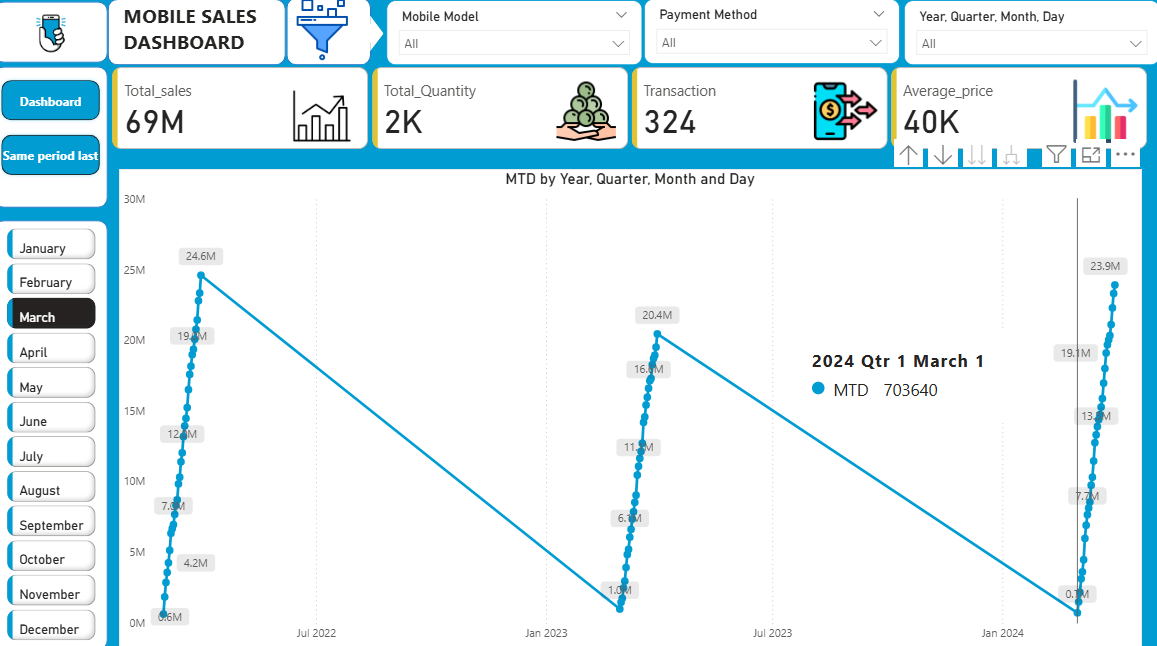

Layout of this report page (visuals, bound fields, positions):
{"tool":"powerbi","page":{"name":"MTD","canvas":[1280,720],"ordinal":1},"visuals":[{"type":"shape","box":[0,8.2,124.9,67.2],"z":0},{"type":"image","box":[23.3,11,78.2,64.5],"z":1000},{"type":"shape","box":[0,79.6,124.9,155.1],"z":2000},{"type":"cardVisual","fields":{"Data":["Sales_data.Total_sales","Sales_data.Total_Quantity","Sales_data.Transaction","Sales_data.Average_price"]},"box":[124.9,75.5,1147.2,100.2],"z":3000},{"type":"slicer","fields":{"Values":["Sales_data.Mobile Model"]},"box":[430.5,7.1,280.8,71.3],"z":4000},{"type":"slicer","fields":{"Values":["Custom_Calender.Date.Variation.Date Hierarchy.Year","Custom_Calender.Date.Variation.Date Hierarchy.Quarter","Custom_Calender.Date.Variation.Date Hierarchy.Month","Custom_Calender.Date.Variation.Date Hierarchy.Day"]},"box":[999.2,7.1,280.8,71.3],"z":5000},{"type":"slicer","fields":{"Values":["Sales_data.Payment Method"]},"box":[714.1,5.7,280.8,71.3],"z":6000},{"type":"shape","box":[320.7,4.3,92.7,74.1],"z":7000},{"type":"shape","box":[397.7,22.8,29.9,39.9],"z":8000},{"type":"image","box":[320.7,0,78.4,78.4],"z":9000},{"type":"shape","box":[125.4,5.7,195.3,72.7],"z":10000},{"type":"textbox","box":[136.8,4.3,170,70],"z":11000},{"type":"lineChart","fields":{"Y":["Sales_data.MTD"],"Category":["Custom_Calender.Date.Variation.Date Hierarchy.Year","Custom_Calender.Date.Variation.Date Hierarchy.Quarter","Custom_Calender.Date.Variation.Date Hierarchy.Month","Custom_Calender.Date.Variation.Date Hierarchy.Day"]},"box":[137.2,192.1,1122.5,528.3],"z":12000},{"type":"shape","box":[0,248.4,124.9,472],"z":13000},{"type":"advancedSlicerVisual","fields":{"Values":["Custom_Calender.Date.Variation.Date Hierarchy.Month"]},"box":[9.6,252.5,107,467.9],"z":14000},{"type":"pageNavigator","box":[4.1,90.6,116.6,112.5],"z":15000}]}

Visuals, with their boxes in screenshot pixels (x1, y1, x2, y2), scaled from the page's 1280x720 canvas onto the 1157x646 screenshot:
shape: (0,7,113,68)
image: (21,10,92,68)
shape: (0,71,113,211)
cardVisual - Sales_data.Total_sales x Sales_data.Total_Quantity: (113,68,1150,158)
slicer - Sales_data.Mobile Model: (389,6,643,70)
slicer - Custom_Calender.Date.Variation.Date Hierarchy.Year x Custom_Calender.Date.Variation.Date Hierarchy.Quarter: (903,6,1156,70)
slicer - Sales_data.Payment Method: (645,5,899,69)
shape: (290,4,374,70)
shape: (359,20,387,56)
image: (290,0,361,70)
shape: (113,5,290,70)
textbox: (124,4,277,67)
lineChart - Sales_data.MTD x Custom_Calender.Date.Variation.Date Hierarchy.Year: (124,172,1139,645)
shape: (0,223,113,645)
advancedSlicerVisual - Custom_Calender.Date.Variation.Date Hierarchy.Month: (9,227,105,645)
pageNavigator: (4,81,109,182)
